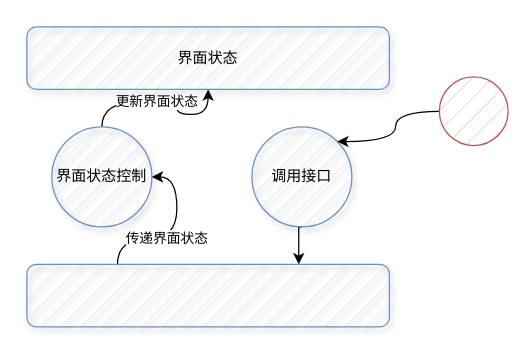
Image size: 530x358. Some labels were removed from this diagram. The shapes that lost their labels are listed below. From the top down, each one's centre as x and y in pixels, then its label:
At (473,111): "传入数据".
At (209,297): "业务接口".
